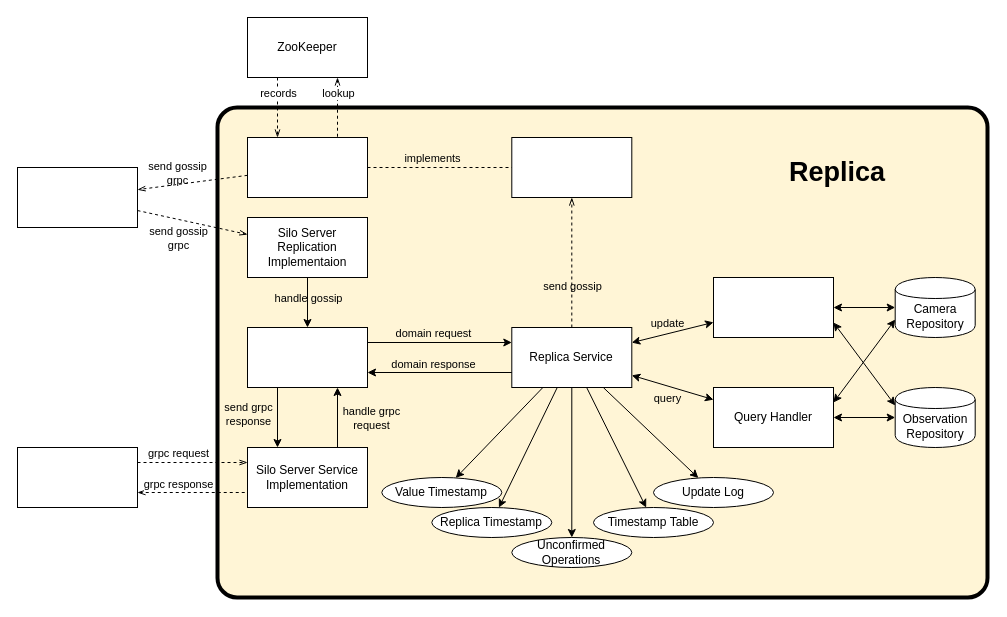
This 1007x617 diagram has some shape labels left out. Each missing label, with the box of its shape:
<<interface>> Gossip Sender: (511, 136, 632, 198)
Grpc Controller: (246, 326, 368, 388)
Grpc Gossip Sender: (246, 136, 368, 198)
Other Replica: (16, 166, 138, 228)
Silo Frontend: (16, 446, 138, 508)
Storage Handler: (712, 276, 834, 338)
